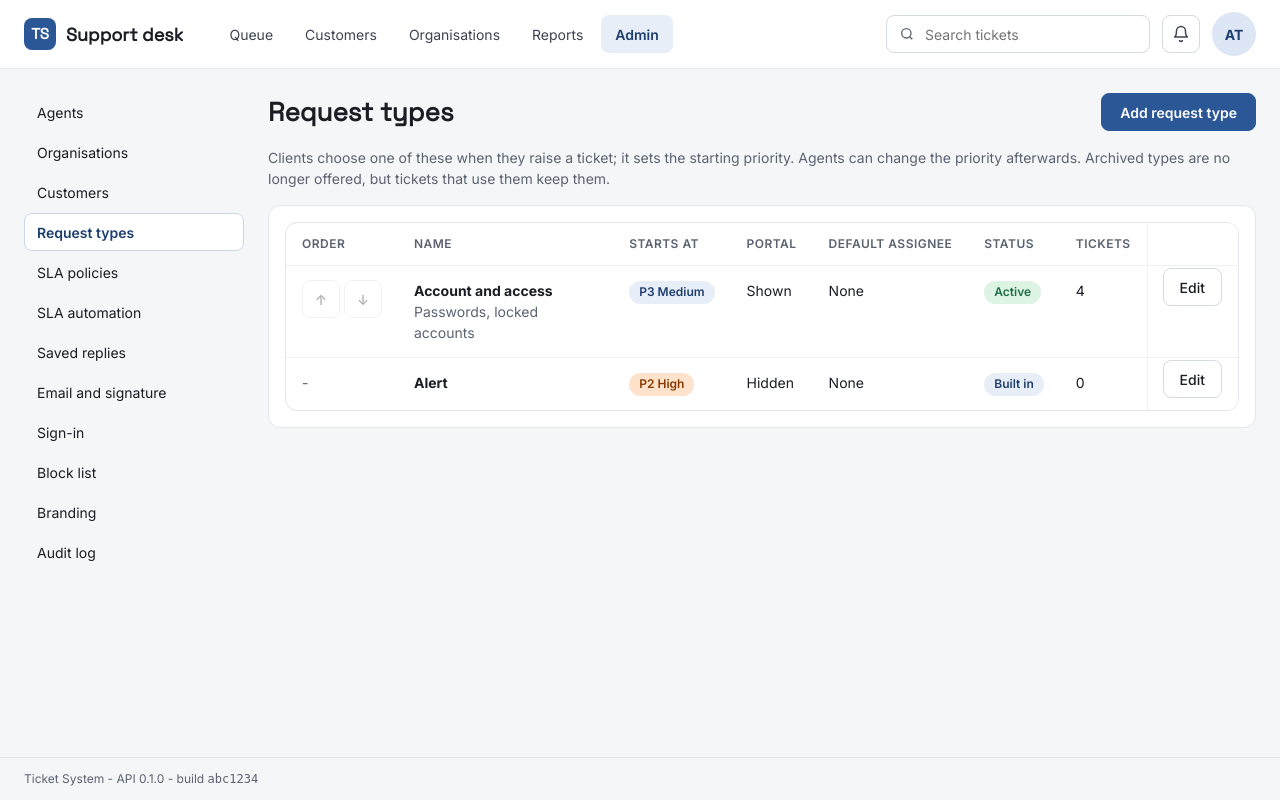
Admin - Request types › does not let the Alert type be renamed or shown in the portal
Click the button with aria-label "Edit Alert" at (1192, 379), box x1=1163 y1=360 x2=1222 y2=398
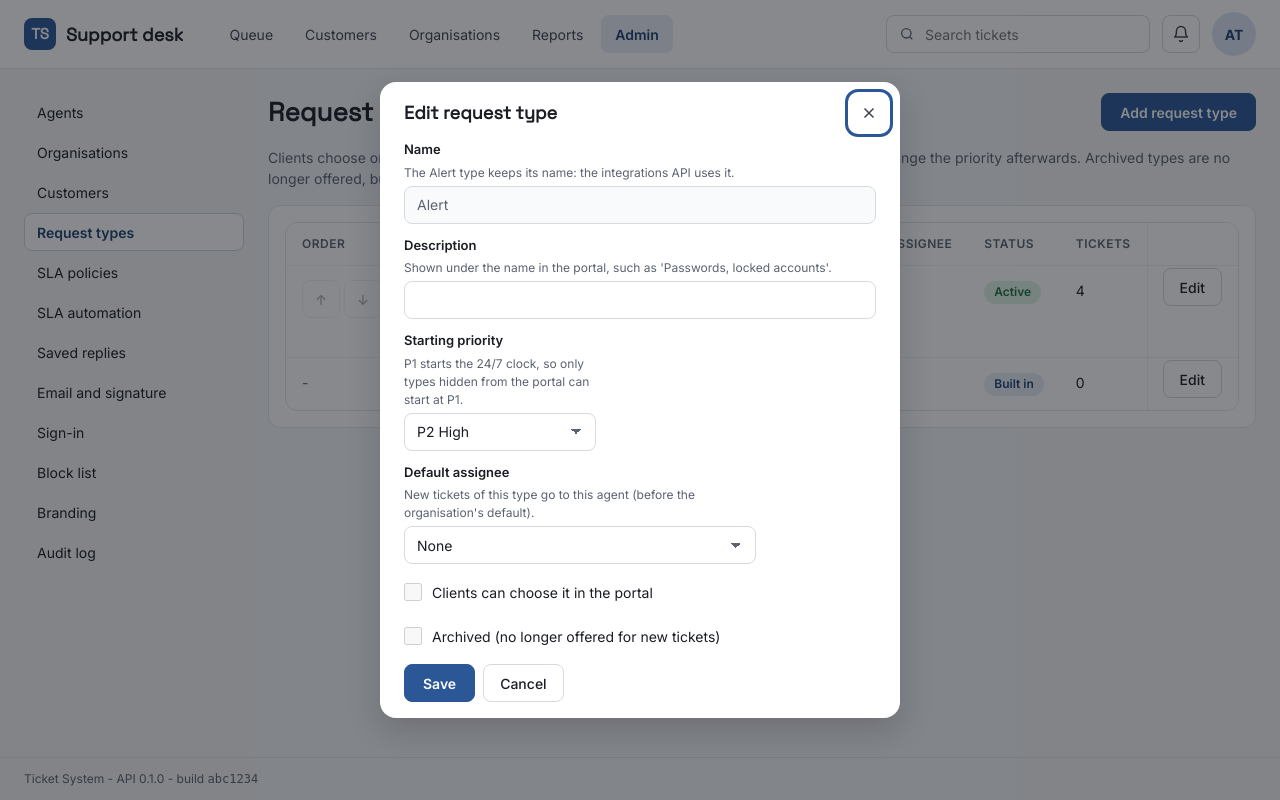
Result: the field labelled "Name" is disabled at x1=404 y1=186 x2=876 y2=224
Result: the checkbox labelled "Clients can choose it in the portal" is disabled at x1=404 y1=583 x2=422 y2=601
